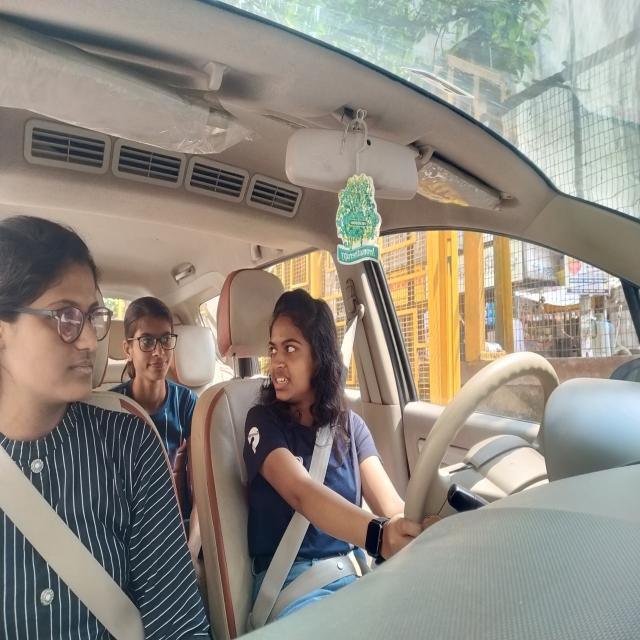LeftRight: (266, 287, 346, 420)
person: (2, 211, 105, 428), (123, 292, 181, 398)
talking: (271, 372, 292, 389)
